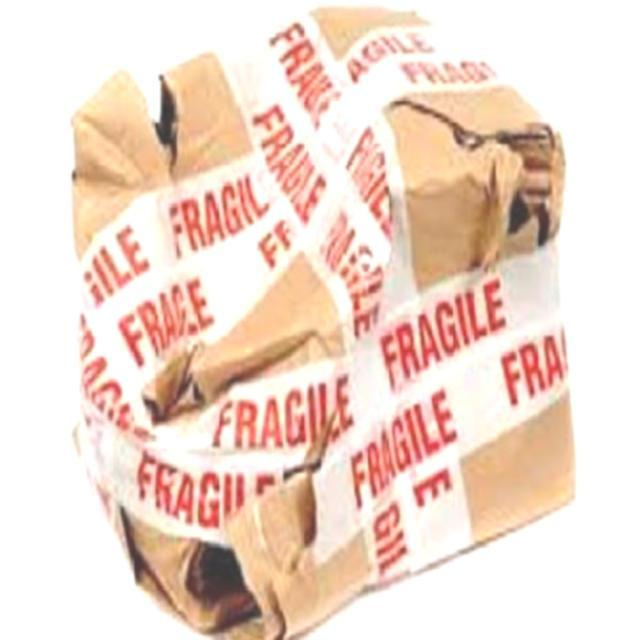box: (69, 4, 581, 640)
crushed: (127, 262, 345, 437)
tear: (406, 94, 569, 266), (168, 487, 295, 640), (109, 65, 198, 205)
